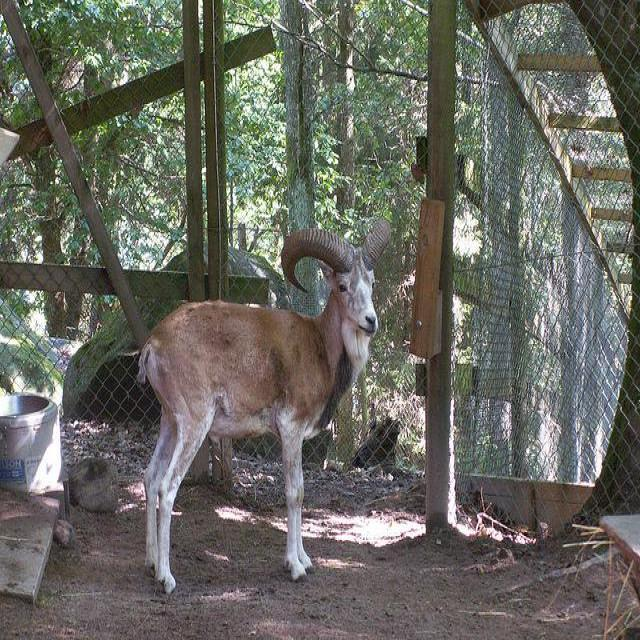Sheep: (137, 216, 393, 595)
